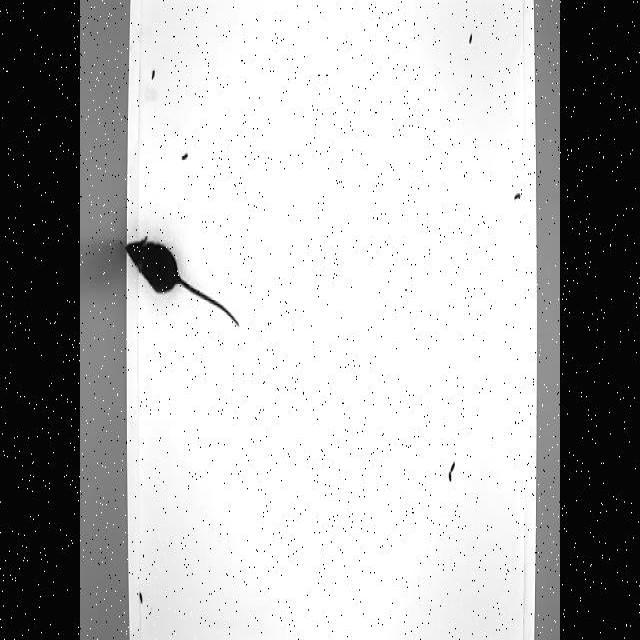rat: (125, 235, 239, 325)
